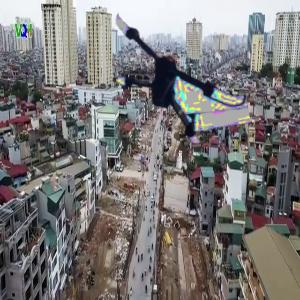drone: (95, 2, 243, 150)
